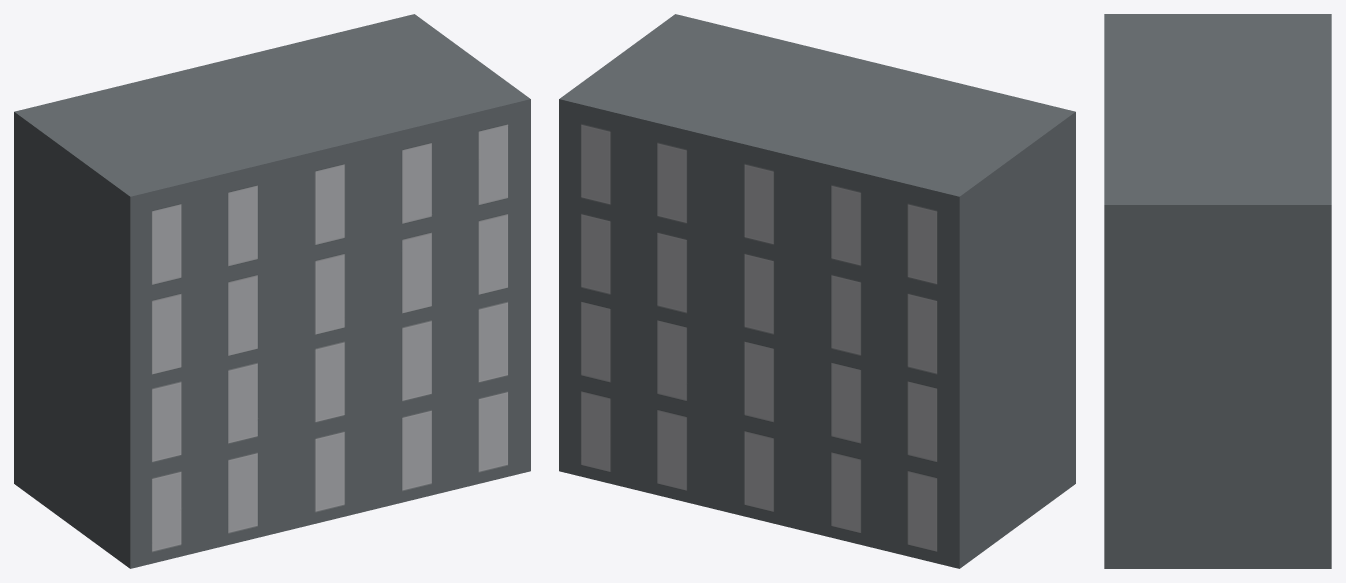
Rendered from blok2.fbx.
The picture shows the model from 3 angles, left to right: view 1: azimuth 30°, elevation 25°; view 2: azimuth 150°, elevation 25°; view 3: azimuth 270°, elevation 25°; orthographic projection. The views are drawn at different scales.
Visible parts, largest first — view 1: pCube1; view 2: pCube1; view 3: pCube1.
Part boxes in pixels (left/top/right/bottom): pCube1: left=14, top=14, right=530, bottom=568; pCube1: left=559, top=14, right=1075, bottom=568; pCube1: left=1104, top=14, right=1331, bottom=568.
Bounding box in the file's own units: 2953 × 2622 × 1485.
Materials: 1 (1 with a texture image).
